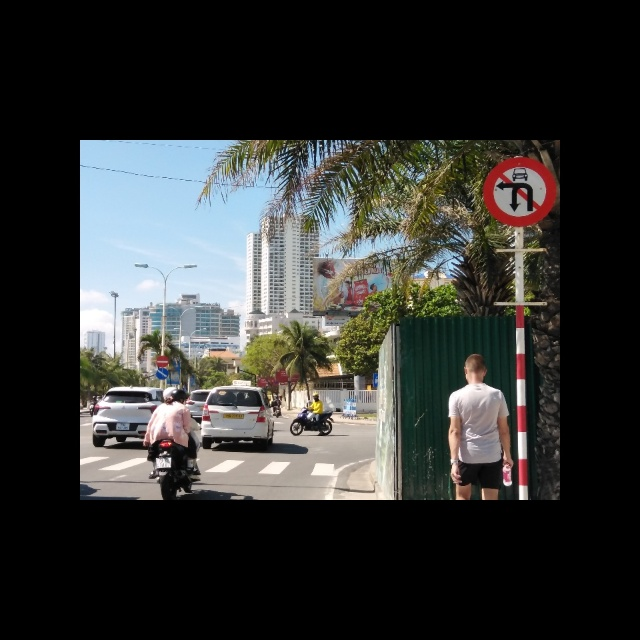Cấm xe ô tô quay đầu và rẽ trái: (482, 154, 554, 226)
